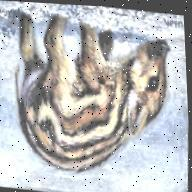boar: (2, 1, 177, 192)
